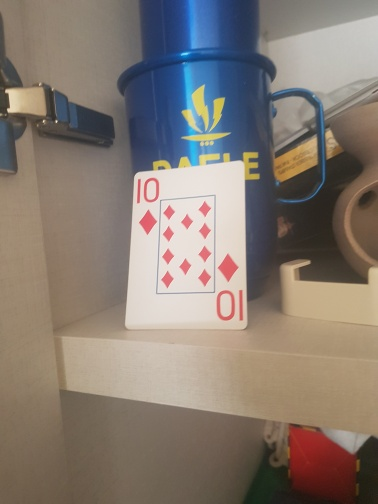ten: (126, 161, 247, 330)
